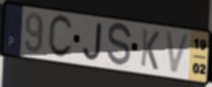9: (23, 11, 44, 56)
C: (47, 13, 74, 60)
J: (82, 21, 104, 62)
K: (139, 27, 161, 72)
S: (105, 21, 133, 69)
V: (164, 29, 192, 76)
